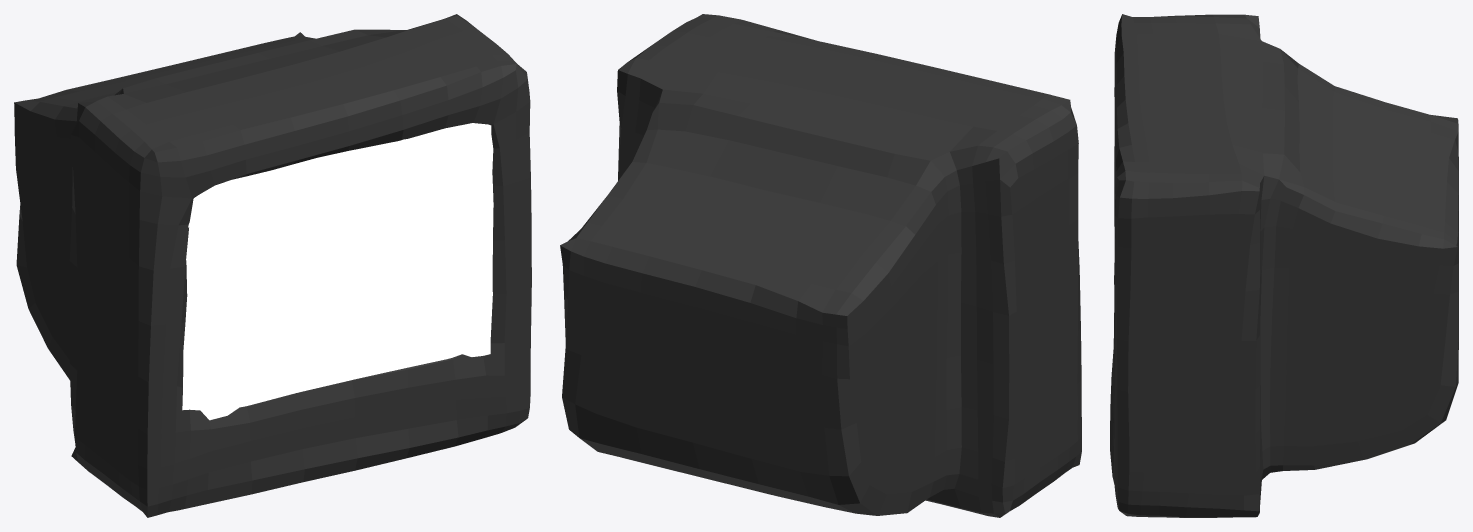
The model's file is ScreenOld.glb.
3 renders of one model, left to right at view 1: azimuth 30°, elevation 25°; view 2: azimuth 150°, elevation 25°; view 3: azimuth 270°, elevation 25°, orthographic. The views are drawn at different scales.
Visible parts, largest first — view 1: mesh.001, Cube.3; view 2: mesh.001; view 3: mesh.001.
Boxes of the visible parts, x1,y1,x2,y2 form: mesh.001: [14, 14, 531, 517]; Cube.3: [182, 123, 493, 420]; mesh.001: [560, 14, 1081, 517]; mesh.001: [1110, 14, 1458, 517].
Bounding box in the file's own units: 11.45 × 10.31 × 9.53.
Materials: 2 (2 with a texture image).
